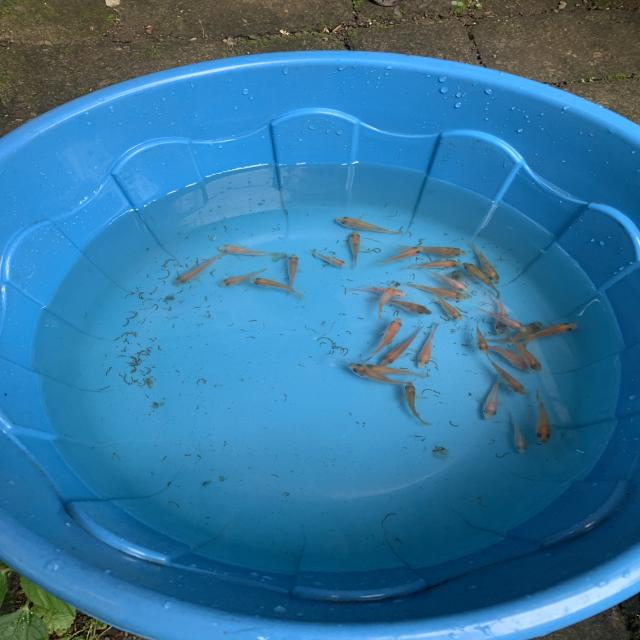nila: (357, 316, 404, 368), (375, 323, 428, 369), (169, 251, 233, 289), (482, 346, 530, 396), (343, 359, 423, 389), (478, 339, 538, 377), (521, 320, 580, 356), (331, 212, 413, 237), (461, 259, 506, 300), (398, 379, 435, 426), (472, 305, 528, 336), (504, 332, 545, 374), (398, 280, 472, 302), (528, 386, 554, 448), (412, 323, 447, 369), (370, 294, 438, 317), (468, 240, 501, 286), (368, 244, 426, 270), (250, 277, 312, 301), (358, 360, 431, 380), (488, 318, 544, 344), (480, 367, 506, 421), (502, 406, 530, 456), (395, 242, 469, 260), (422, 266, 472, 292), (215, 267, 271, 290), (486, 291, 512, 337), (346, 283, 416, 300), (433, 291, 466, 325), (280, 252, 301, 300), (218, 242, 281, 258), (373, 284, 400, 320), (399, 258, 464, 272), (310, 248, 353, 269), (469, 318, 489, 354), (347, 229, 363, 270)
